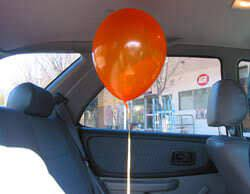Balloon: (91, 8, 168, 100)
